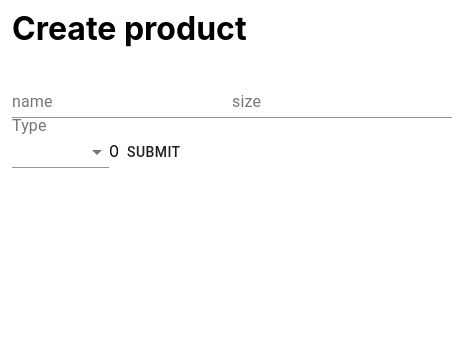
Test: when the user submits the form without values › should display validation messages
This screenshot has width=469, height=353.
Expected: the text "the name is required" is not shown
Expected: the text "the size is required" is not shown
Click the button "Submit" at (154, 152), box [119,134,188,170]
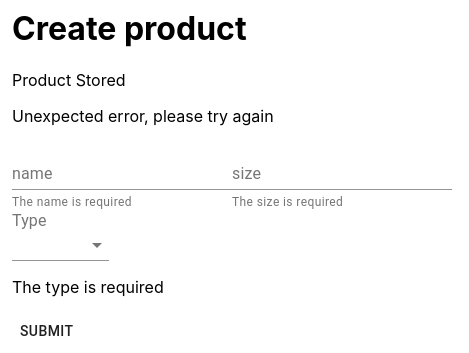
Result: the text "The name is required" is shown at [12,195,132,209]
Result: the text "The size is required" is shown at [232,195,343,209]
Result: the text "The type is required" is shown at [12,277,164,297]
